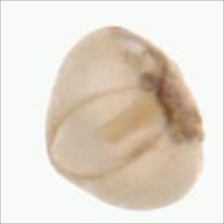L5: (44, 84, 165, 184), (144, 43, 207, 146), (42, 139, 73, 182)
L6: (43, 23, 206, 213)
